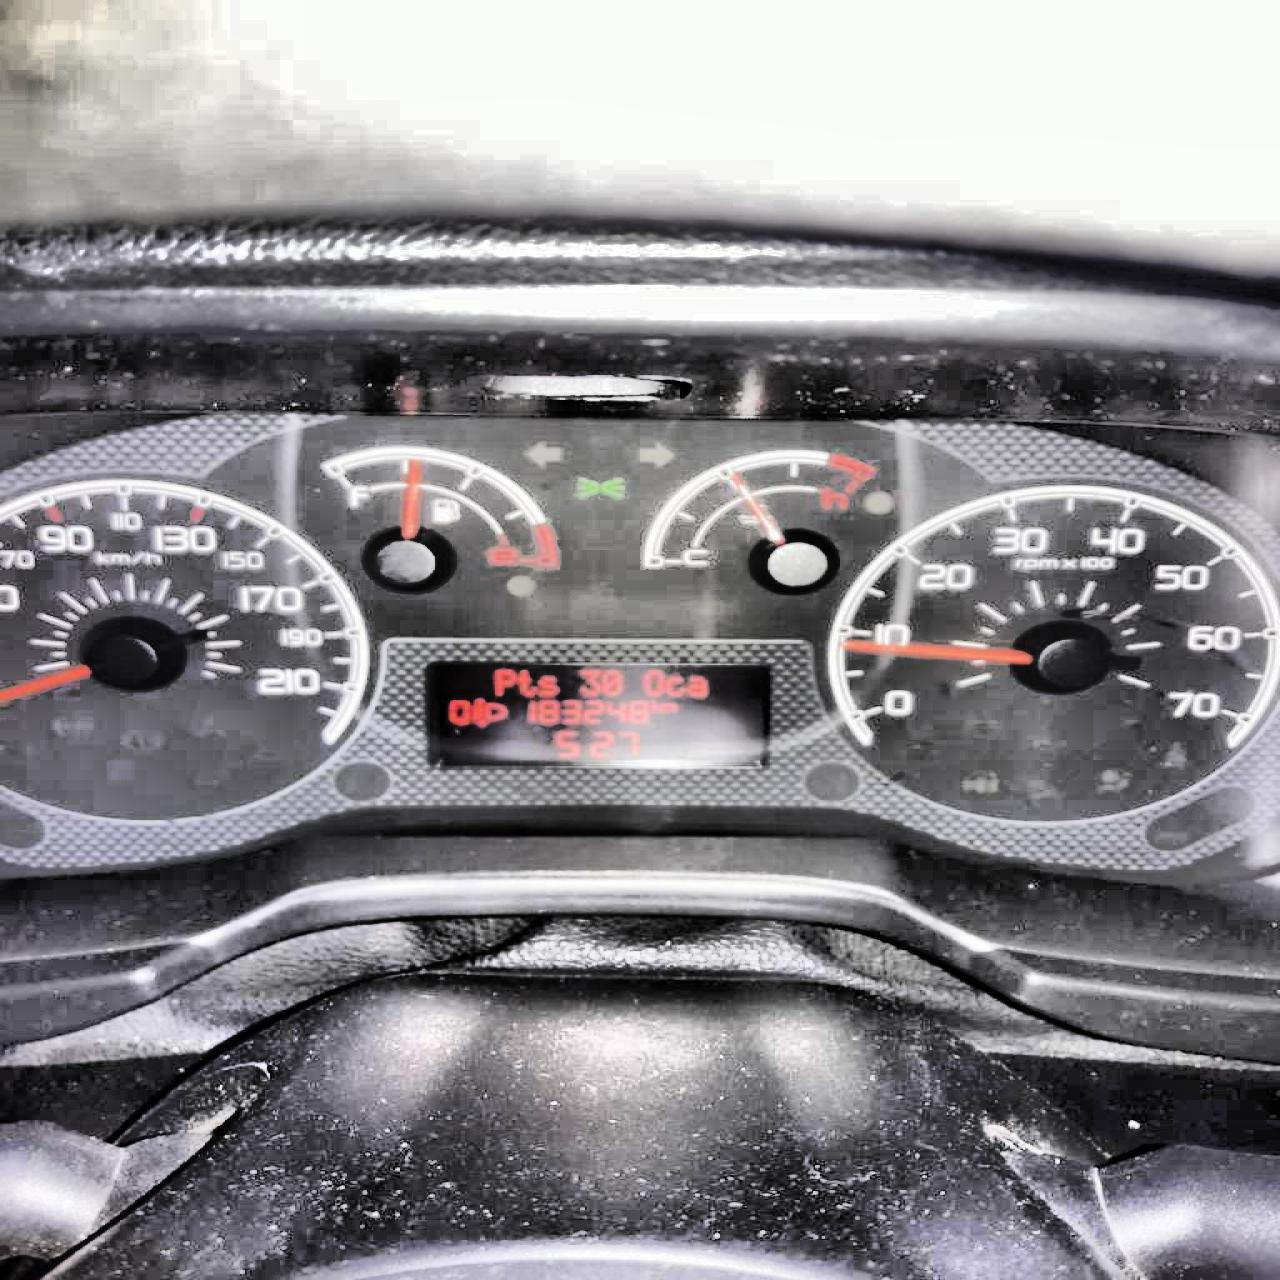0: (445, 697, 470, 723), (600, 667, 621, 695), (626, 699, 647, 722)
1: (526, 699, 537, 723)
2: (585, 730, 613, 756), (580, 699, 604, 723)
3: (577, 667, 600, 696), (558, 699, 580, 723)
4: (605, 700, 625, 721)
5: (551, 730, 577, 757)
7: (614, 730, 639, 757)
8: (537, 699, 558, 723)
X: (492, 667, 516, 695), (641, 669, 663, 696), (516, 667, 537, 695), (535, 674, 560, 696), (663, 676, 685, 696), (686, 676, 707, 696), (659, 700, 679, 713), (647, 699, 659, 713)
odometer: (424, 660, 774, 768)
